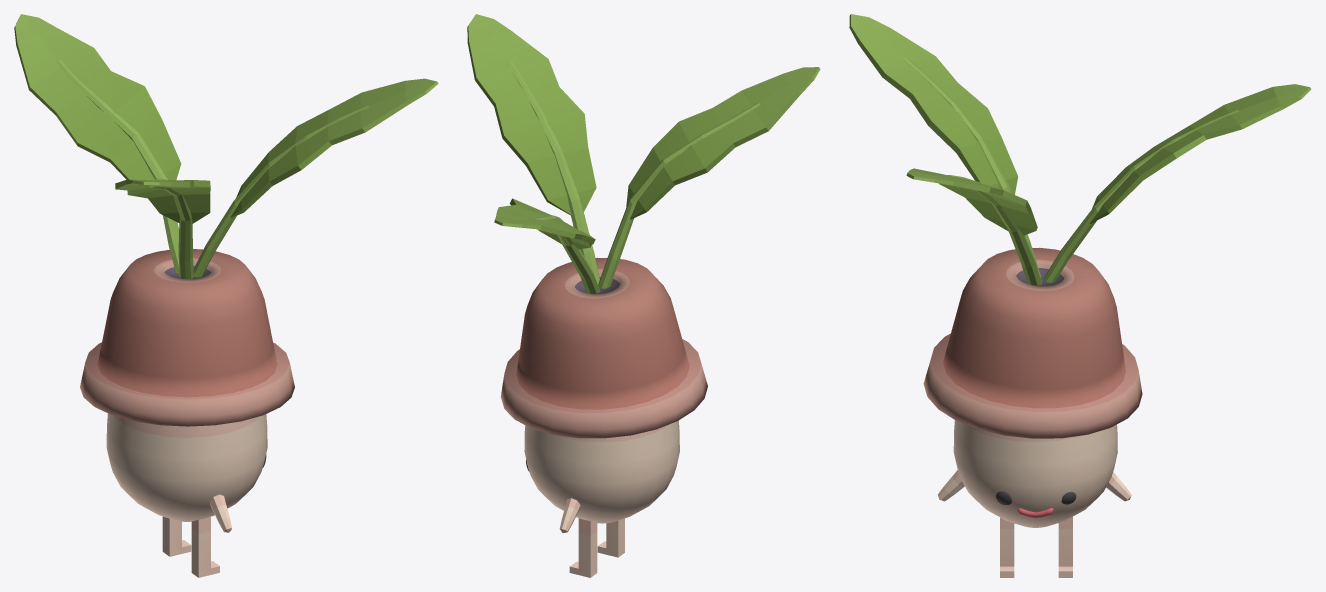
Rendered from Rootboy_001.fbx.
3 views of the same model, side by side, from view 1: azimuth 30°, elevation 25°; view 2: azimuth 150°, elevation 25°; view 3: azimuth 270°, elevation 25° (orthographic). The views are drawn at different scales.
Parts seen in each view (by area): view 1: RootBoy; view 2: RootBoy; view 3: RootBoy.
Part boxes in pixels (left/top/right/bottom): RootBoy: left=14, top=14, right=438, bottom=577; RootBoy: left=467, top=14, right=820, bottom=577; RootBoy: left=849, top=14, right=1311, bottom=577.
Bounding box in the file's own units: 36.67 × 51.24 × 43.8.
